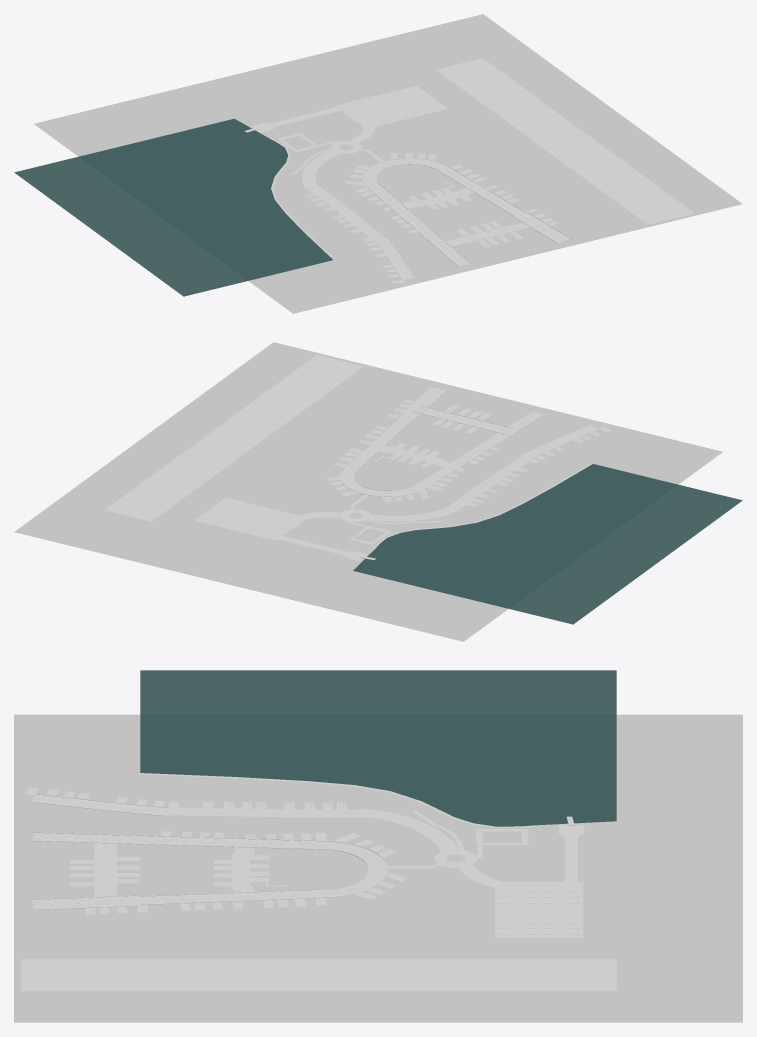
The model's file is hood_ground.glb.
3 renders of one model, top to bottom at view 1: azimuth 30°, elevation 25°; view 2: azimuth 150°, elevation 25°; view 3: azimuth 270°, elevation 25°, orthographic. The views are drawn at different scales.
Visible parts, largest first — view 1: terrain, lake, ch2_H1_road, roads, ch2_L1_road, ch2_R1_road, ch2_R4_road, ch2_R3_road, ch2_dock_road, ch2_R2_road; view 2: terrain, lake, ch2_H1_road, roads, ch2_L1_road, ch2_R1_road, ch2_R4_road, ch2_R3_road, ch2_dock_road; view 3: terrain, lake, ch2_H1_road, roads, ch2_L1_road, ch2_R1_road, ch2_R4_road, ch2_L1_kerb, ch2_R3_road, ch2_R2_road, ch2_dock_road, shore (+1 smaller).
Boxes of the visible parts, box(x1,y1,x2,y2) form: terrain: box(34, 14, 742, 313); lake: box(14, 118, 332, 296); ch2_H1_road: box(436, 58, 694, 224); roads: box(302, 86, 470, 239); ch2_L1_road: box(362, 158, 525, 233); ch2_R1_road: box(438, 220, 537, 247); ch2_R4_road: box(374, 238, 414, 279); ch2_R3_road: box(514, 212, 570, 242); ch2_dock_road: box(251, 107, 340, 132); ch2_R2_road: box(422, 231, 470, 266); terrain: box(14, 342, 722, 641); lake: box(353, 464, 742, 624); ch2_H1_road: box(105, 355, 363, 521); roads: box(194, 446, 529, 540); ch2_L1_road: box(340, 417, 495, 496); ch2_R1_road: box(413, 406, 512, 433); ch2_R4_road: box(521, 425, 598, 458); ch2_R3_road: box(399, 387, 445, 419); ch2_dock_road: box(279, 536, 367, 560); terrain: box(14, 714, 742, 1022); lake: box(140, 670, 616, 826); ch2_H1_road: box(21, 959, 616, 991); roads: box(168, 807, 583, 937); ch2_L1_road: box(139, 836, 387, 904); ch2_R1_road: box(95, 839, 116, 901); ch2_R4_road: box(31, 794, 170, 815); ch2_L1_kerb: box(139, 836, 388, 904); ch2_R3_road: box(32, 895, 141, 909); ch2_R2_road: box(32, 833, 152, 843); ch2_dock_road: box(558, 824, 584, 881); shore: box(140, 773, 535, 828).
Bounding box in the file's own units: 350 × 1.4 × 306.
